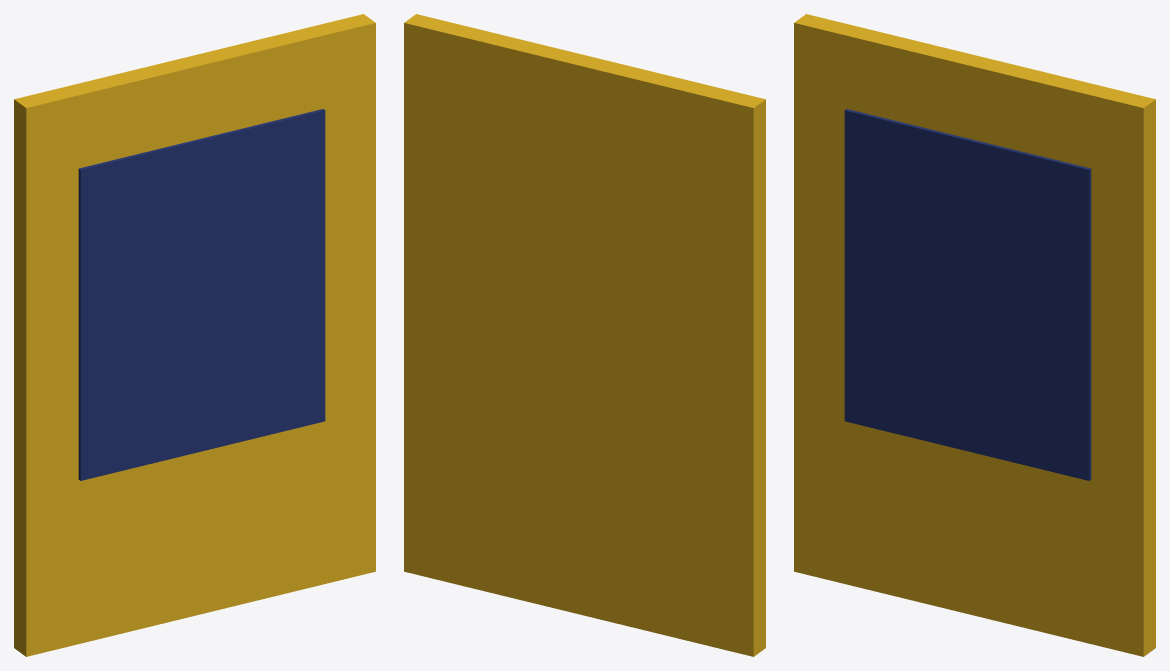
The model's file is card.glb.
3 renders of one model, left to right at view 1: azimuth 30°, elevation 25°; view 2: azimuth 150°, elevation 25°; view 3: azimuth 330°, elevation 25°, orthographic.
Parts seen in each view (by area): view 1: card; view 2: card; view 3: card.
Part boxes in pixels (left/top/right/bottom): card: left=14, top=14, right=375, bottom=656; card: left=404, top=14, right=765, bottom=656; card: left=794, top=14, right=1155, bottom=656.
Size of the model in its own units: 0.1 by 0.15 by 0.007.
Materials: 1 (1 with a texture image).
